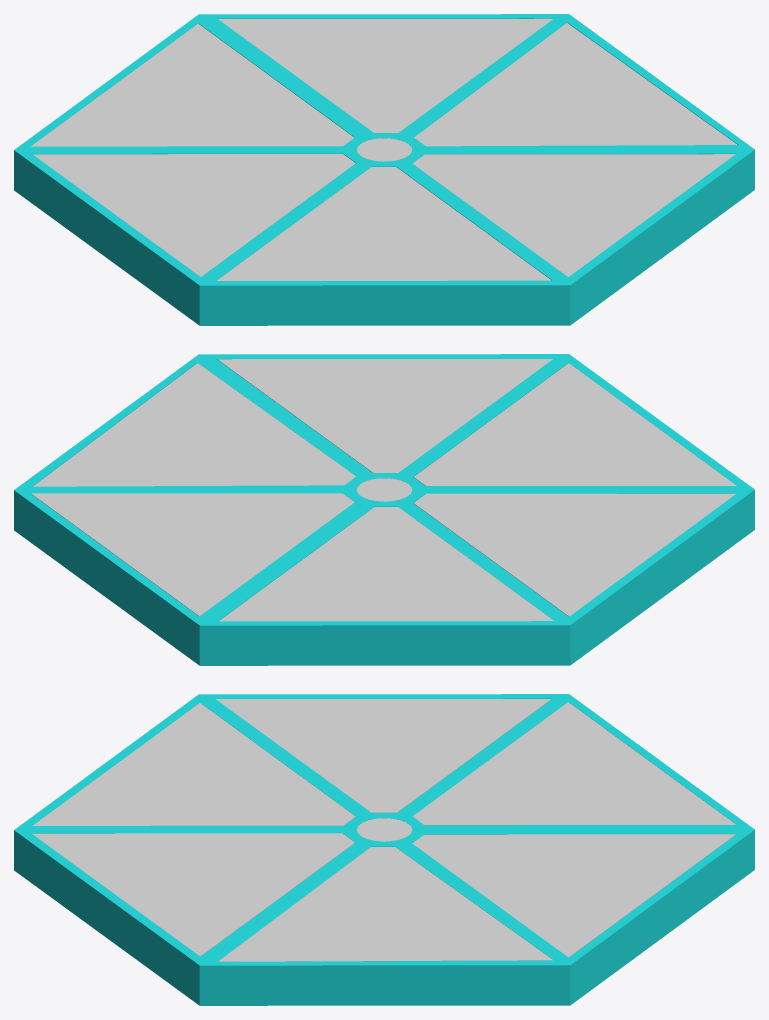
Rendered from FuturisticFlooringV2.fbx.
The picture shows the model from 3 angles, top to bottom: view 1: azimuth 30°, elevation 25°; view 2: azimuth 150°, elevation 25°; view 3: azimuth 270°, elevation 25°; orthographic projection.
Visible parts, largest first — view 1: GlowBase.001, Cylinder.004, Cylinder, Cylinder.006, Cylinder.005, Cylinder.003, Cylinder.002, Cylinder.001; view 2: GlowBase.001, Cylinder.005, Cylinder.004, Cylinder.002, Cylinder, Cylinder.006, Cylinder.003, Cylinder.001; view 3: GlowBase.001, Cylinder.002, Cylinder.006, Cylinder, Cylinder.004, Cylinder.003, Cylinder.005, Cylinder.001.
Part boxes in pixels (<box>): GlowBase.001: <box>14,14,754,325</box>; Cylinder.004: <box>31,23,354,146</box>; Cylinder: <box>414,23,737,146</box>; Cylinder.006: <box>412,154,735,276</box>; Cylinder.005: <box>33,154,355,276</box>; Cylinder.003: <box>216,167,551,280</box>; Cylinder.002: <box>218,18,553,132</box>; Cylinder.001: <box>356,138,412,161</box>; GlowBase.001: <box>14,354,754,665</box>; Cylinder.005: <box>413,493,735,616</box>; Cylinder.004: <box>219,507,553,621</box>; Cylinder.002: <box>31,493,354,616</box>; Cylinder: <box>33,363,355,486</box>; Cylinder.006: <box>217,359,552,472</box>; Cylinder.003: <box>414,363,736,485</box>; Cylinder.001: <box>356,478,412,501</box>; GlowBase.001: <box>14,694,754,1005</box>; Cylinder.002: <box>412,834,735,957</box>; Cylinder.006: <box>32,833,355,956</box>; Cylinder: <box>218,847,553,961</box>; Cylinder.004: <box>412,702,736,825</box>; Cylinder.003: <box>32,703,355,825</box>; Cylinder.005: <box>216,699,551,812</box>; Cylinder.001: <box>356,818,412,841</box>.
Bounding box in the file's own units: 347 × 24.05 × 400.
